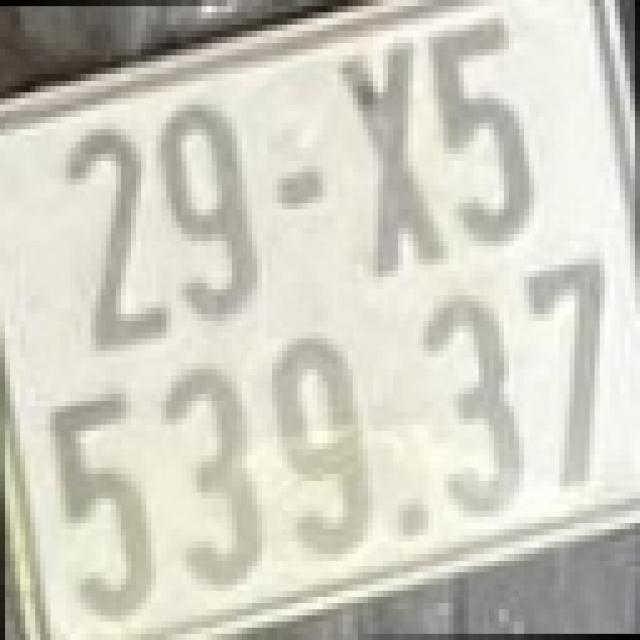2: (56, 117, 176, 351)
3: (418, 289, 529, 517), (156, 363, 262, 585)
5: (428, 18, 540, 246), (50, 388, 156, 622)
7: (529, 258, 610, 492)
9: (272, 332, 373, 560), (161, 98, 262, 326)
X: (338, 37, 443, 271)
